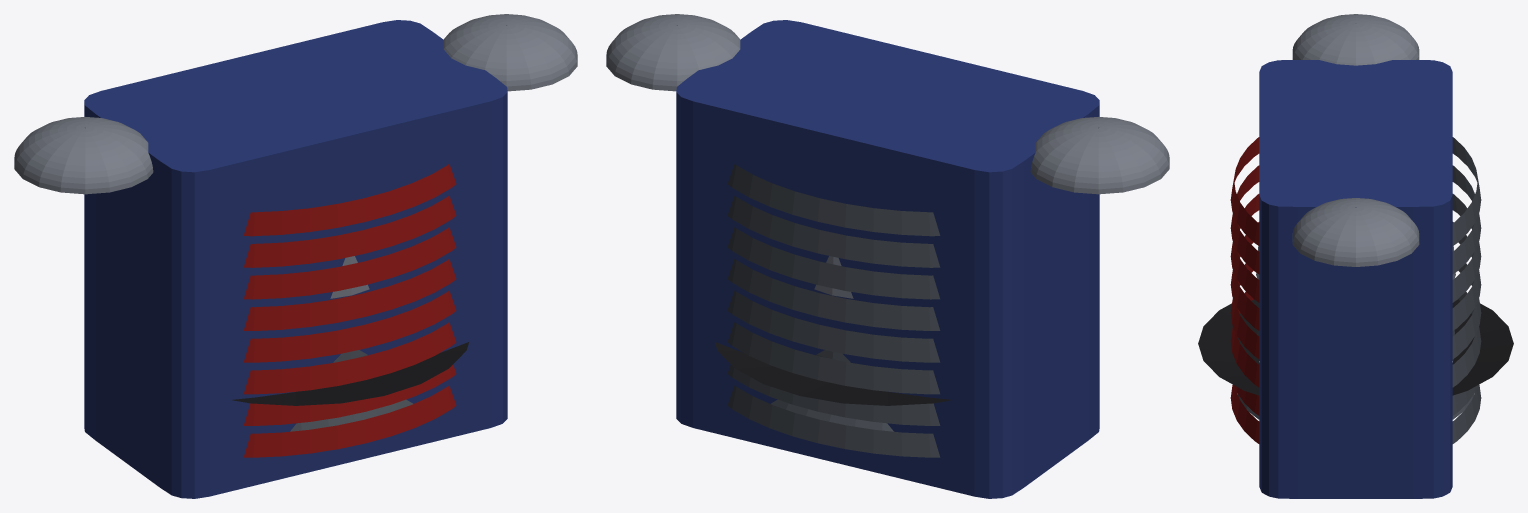
Rendered from korean_roblox_baked.obj.
The picture shows the model from 3 angles, left to right: view 1: azimuth 30°, elevation 25°; view 2: azimuth 150°, elevation 25°; view 3: azimuth 270°, elevation 25°; orthographic projection. The views are drawn at different scales.
Parts seen in each view (by area): view 1: under_torso, shoulder_L, shoulder_R, lamellar_front_5, lamellar_front_7, lamellar_front_2, lamellar_front_4, lamellar_front_0, lamellar_front_1, lamellar_front_3, korean_brim, lamellar_front_6 (+1 smaller); view 2: under_torso, shoulder_L, shoulder_R, lamellar_back_5, lamellar_back_7, lamellar_back_2, lamellar_back_4, lamellar_back_0, lamellar_back_1, lamellar_back_3, korean_brim, lamellar_back_6 (+1 smaller); view 3: under_torso, shoulder_R, korean_brim, shoulder_L, lamellar_front_0, lamellar_back_0, lamellar_front_1, lamellar_back_1, lamellar_front_2, lamellar_back_2, lamellar_front_5, lamellar_back_5 (+8 smaller).
Part boxes in pixels (left/top/right/bottom): under_torso: left=84, top=20, right=507, bottom=498; shoulder_L: left=14, top=117, right=153, bottom=194; shoulder_R: left=443, top=14, right=577, bottom=91; lamellar_front_5: left=244, top=322, right=456, bottom=394; lamellar_front_7: left=243, top=385, right=456, bottom=457; lamellar_front_2: left=244, top=227, right=456, bottom=299; lamellar_front_4: left=243, top=290, right=456, bottom=362; lamellar_front_0: left=243, top=164, right=456, bottom=236; lamellar_front_1: left=243, top=196, right=456, bottom=267; lamellar_front_3: left=243, top=259, right=456, bottom=330; korean_brim: left=232, top=342, right=468, bottom=405; lamellar_front_6: left=243, top=364, right=456, bottom=425; under_torso: left=676, top=20, right=1099, bottom=498; shoulder_L: left=1030, top=117, right=1169, bottom=194; shoulder_R: left=606, top=14, right=740, bottom=91; lamellar_back_5: left=727, top=322, right=939, bottom=394; lamellar_back_7: left=727, top=385, right=940, bottom=457; lamellar_back_2: left=727, top=227, right=939, bottom=299; lamellar_back_4: left=727, top=290, right=940, bottom=362; lamellar_back_0: left=727, top=164, right=940, bottom=236; lamellar_back_1: left=727, top=196, right=940, bottom=267; lamellar_back_3: left=727, top=259, right=940, bottom=330; korean_brim: left=715, top=342, right=951, bottom=405; lamellar_back_6: left=727, top=364, right=940, bottom=425; under_torso: left=1259, top=60, right=1452, bottom=498; shoulder_R: left=1292, top=198, right=1419, bottom=266; korean_brim: left=1198, top=299, right=1513, bottom=395; shoulder_L: left=1292, top=14, right=1419, bottom=65; lamellar_front_0: left=1230, top=137, right=1259, bottom=245; lamellar_back_0: left=1452, top=137, right=1481, bottom=245; lamellar_front_1: left=1230, top=165, right=1259, bottom=274; lamellar_back_1: left=1452, top=165, right=1481, bottom=274; lamellar_front_2: left=1230, top=194, right=1259, bottom=302; lamellar_back_2: left=1452, top=194, right=1481, bottom=302; lamellar_front_5: left=1230, top=291, right=1259, bottom=387; lamellar_back_5: left=1452, top=291, right=1481, bottom=387.
Size of the model in its own units: 3.5 by 2.24 by 1.96.
